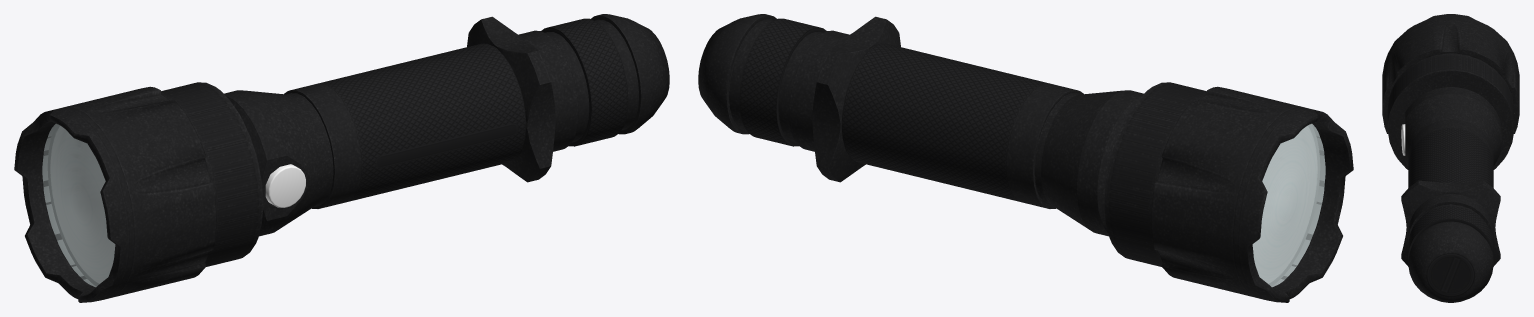
Rendered from flashlight_-_fenix_fd41.glb.
The picture shows the model from 3 angles, left to right: view 1: azimuth 30°, elevation 25°; view 2: azimuth 150°, elevation 25°; view 3: azimuth 270°, elevation 25°; orthographic projection. The views are drawn at different scales.
Visible parts, largest first — view 1: Object_3; view 2: Object_3; view 3: Object_3.
Boxes of the visible parts, <box> form: Object_3: <box>14,14,669,302</box>; Object_3: <box>698,14,1353,302</box>; Object_3: <box>1382,14,1519,302</box>.
Size of the model in its own units: 124 by 36.04 by 36.04.
1 material, 1 textured.
